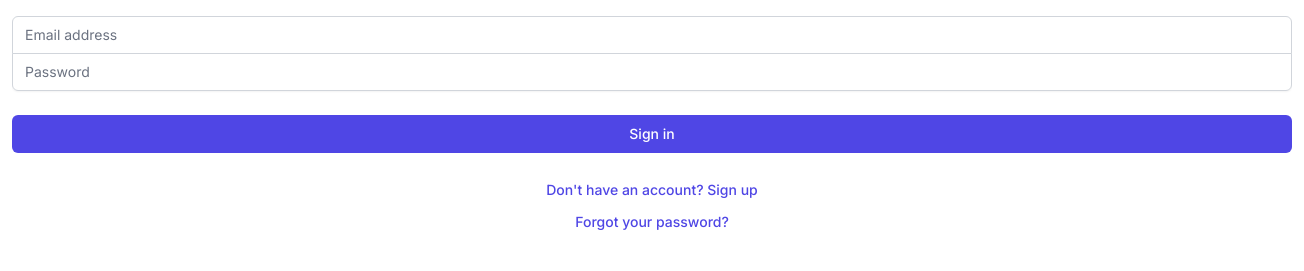
LoginForm › validates password length
Type "test@example.com" into the field with placeholder "Email address". click: (652, 35)
box: [12,16,1292,54]
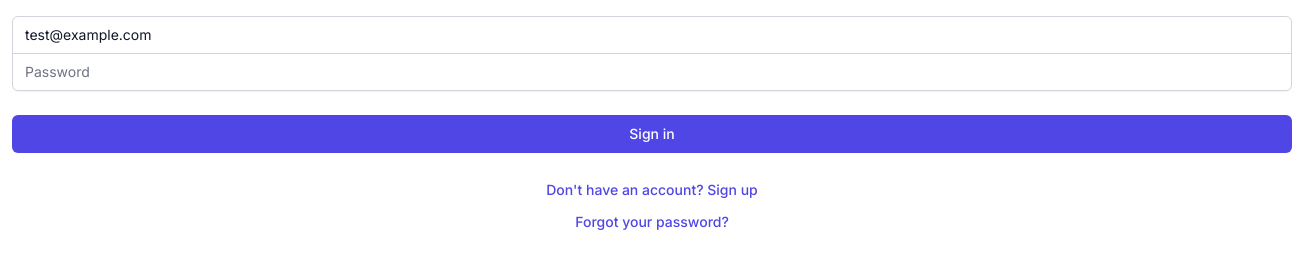
Type "123" into the password field with placeholder "Password". click: (652, 72)
box: [12,53,1292,91]
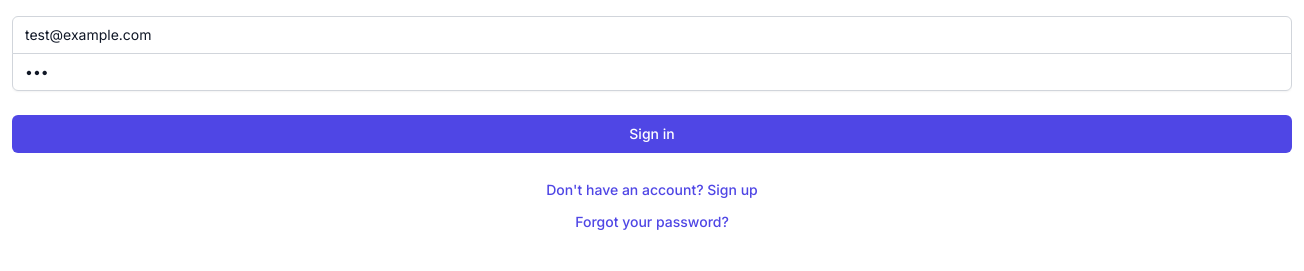
Click the button "Sign in". click: (652, 134)
box: [12,115,1292,153]
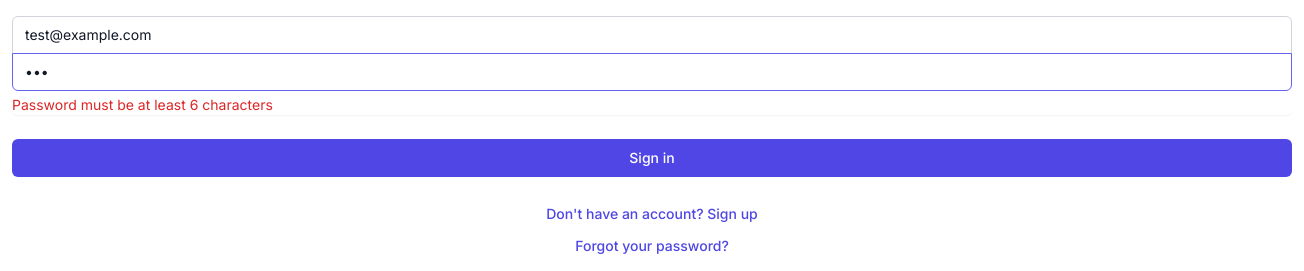
Result: the text "Password must be at least 6 characters" is shown at [12,96,273,113]
